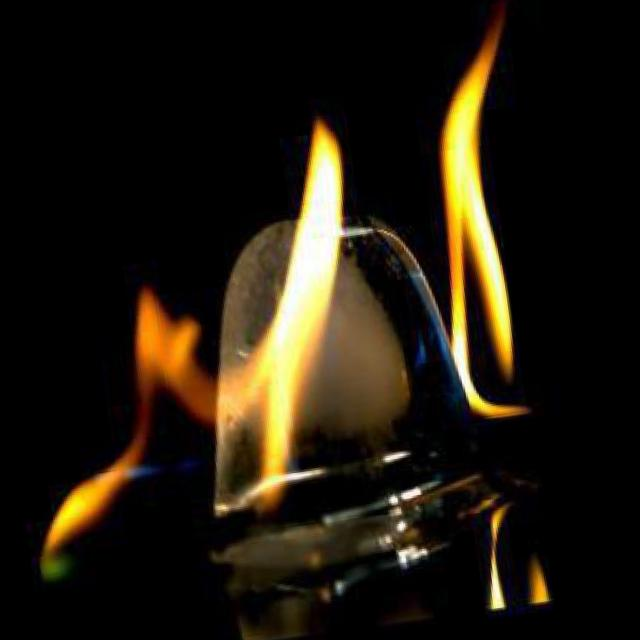fire: (0, 92, 409, 583), (393, 0, 567, 435)
